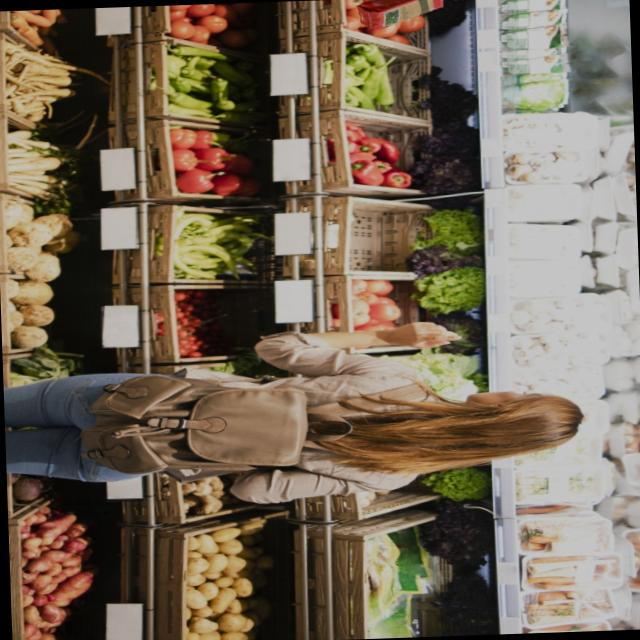mate bag: (354, 0, 451, 32)
